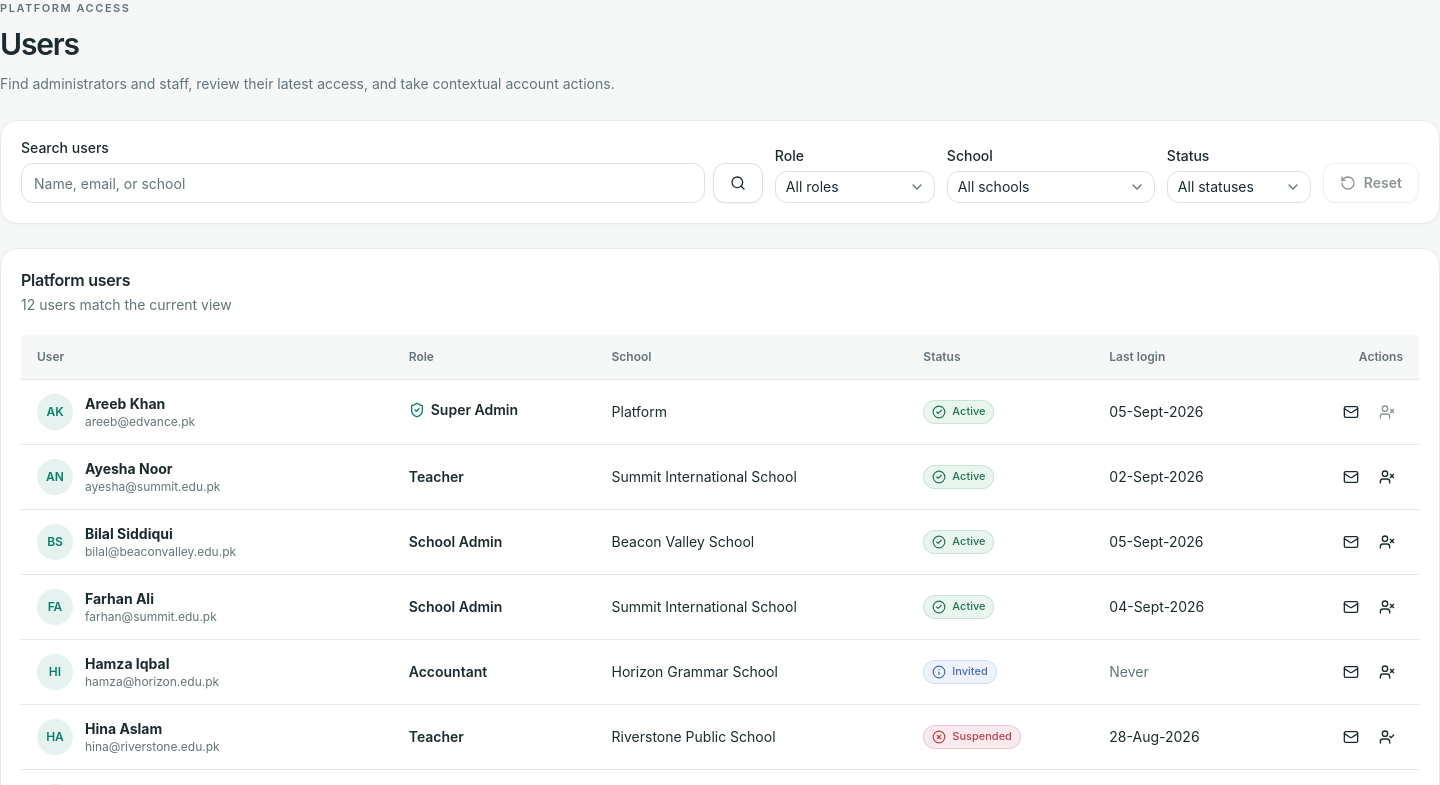
Test: UsersList › confirms a contextual suspension before changing access
Expected: the text "Bilal Siddiqui" is shown, [85,525,173,542]
Click the button named "Suspend Bilal Siddiqui". click: (1387, 542)
box: [1371,526,1403,558]
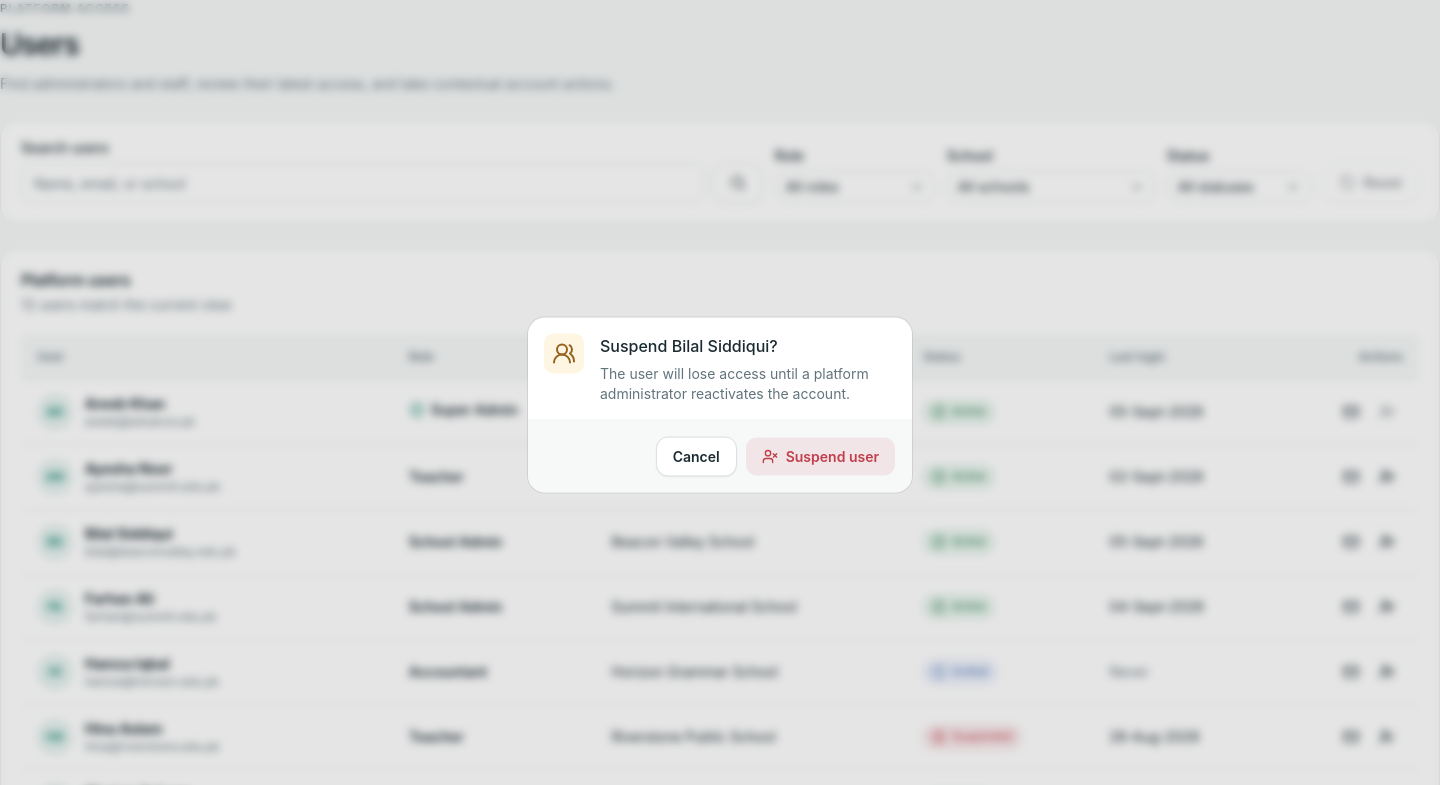
Result: the heading "Suspend Bilal Siddiqui?" is shown at [600,334,778,358]
Result: the text "lose access" is shown at [600,364,869,402]
Click the button "Cancel". click: (696, 456)
box: [656,436,737,476]
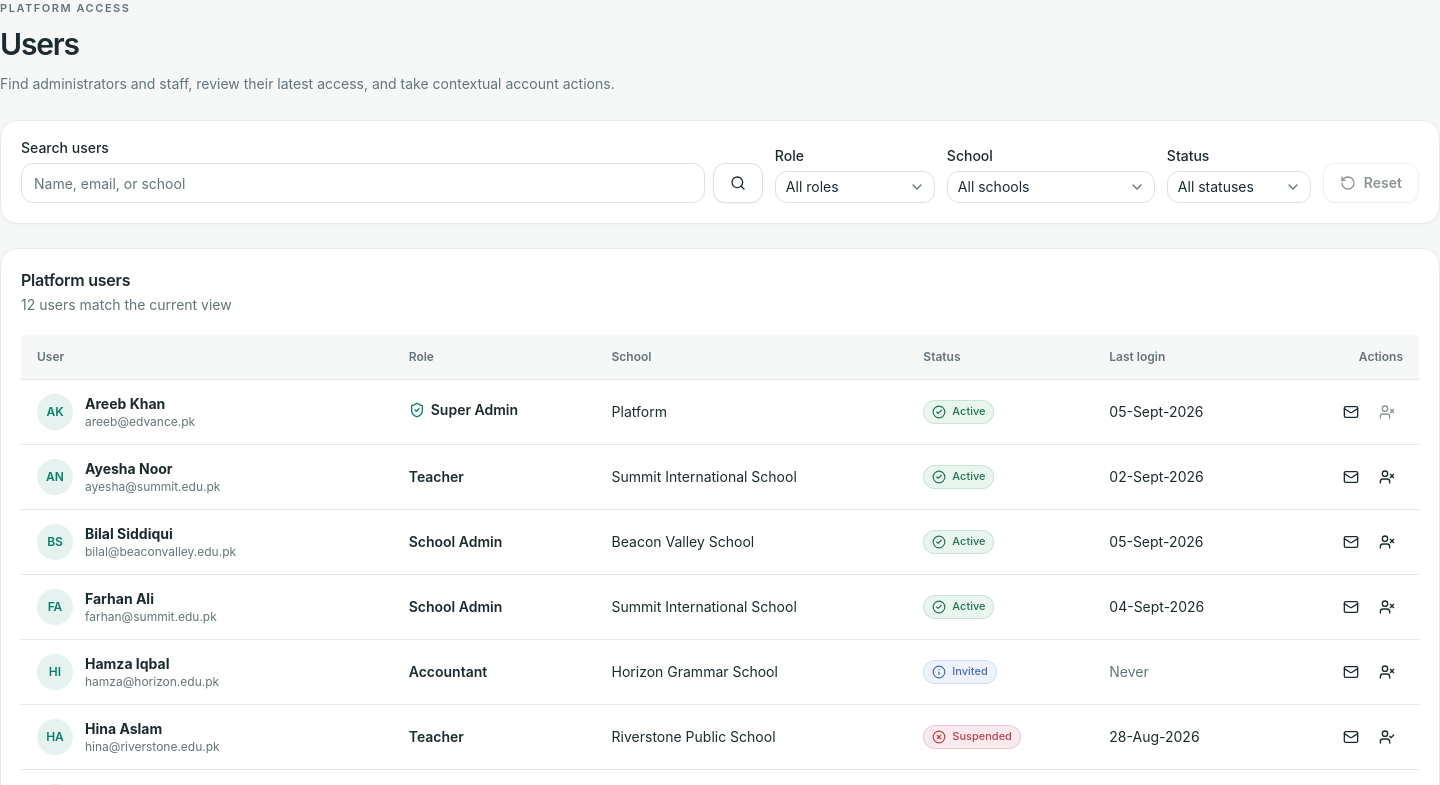
Result: the heading "Suspend Bilal Siddiqui?" is gone
